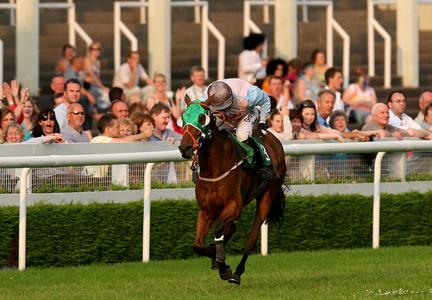person: (202, 78, 273, 171)
